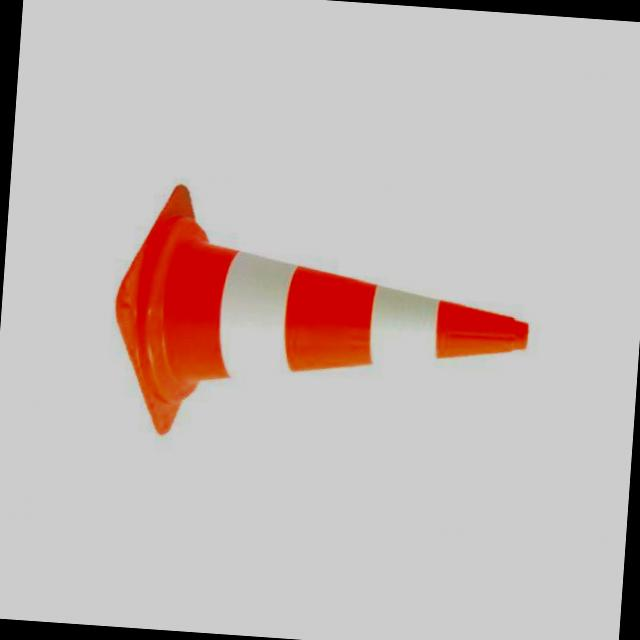cone: (117, 205, 537, 458)
